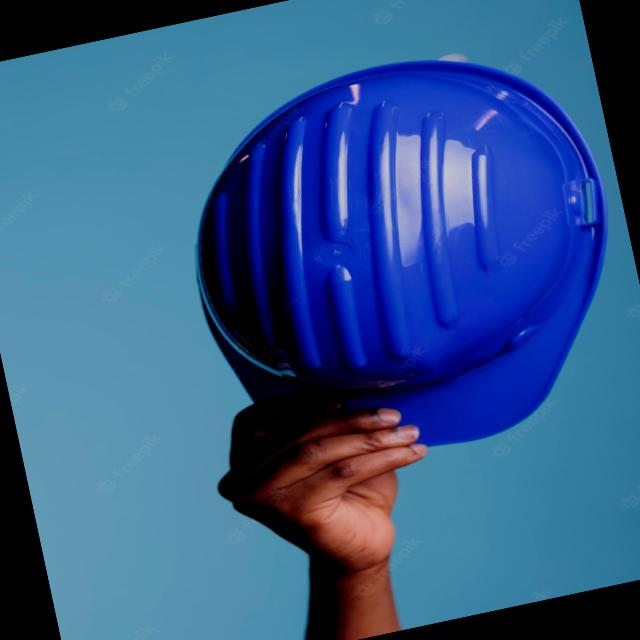helmet: (86, 0, 640, 513)
